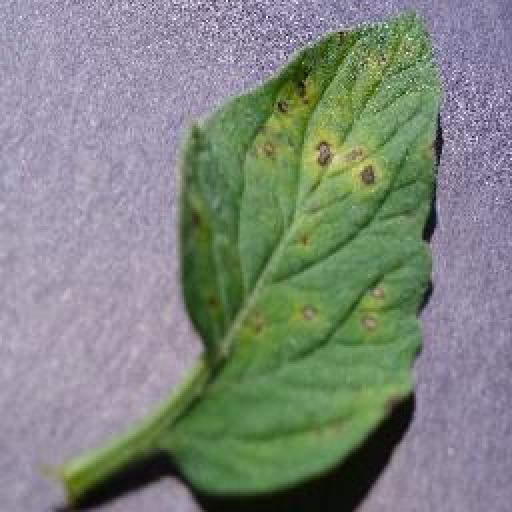Septoria: (175, 9, 444, 496)
